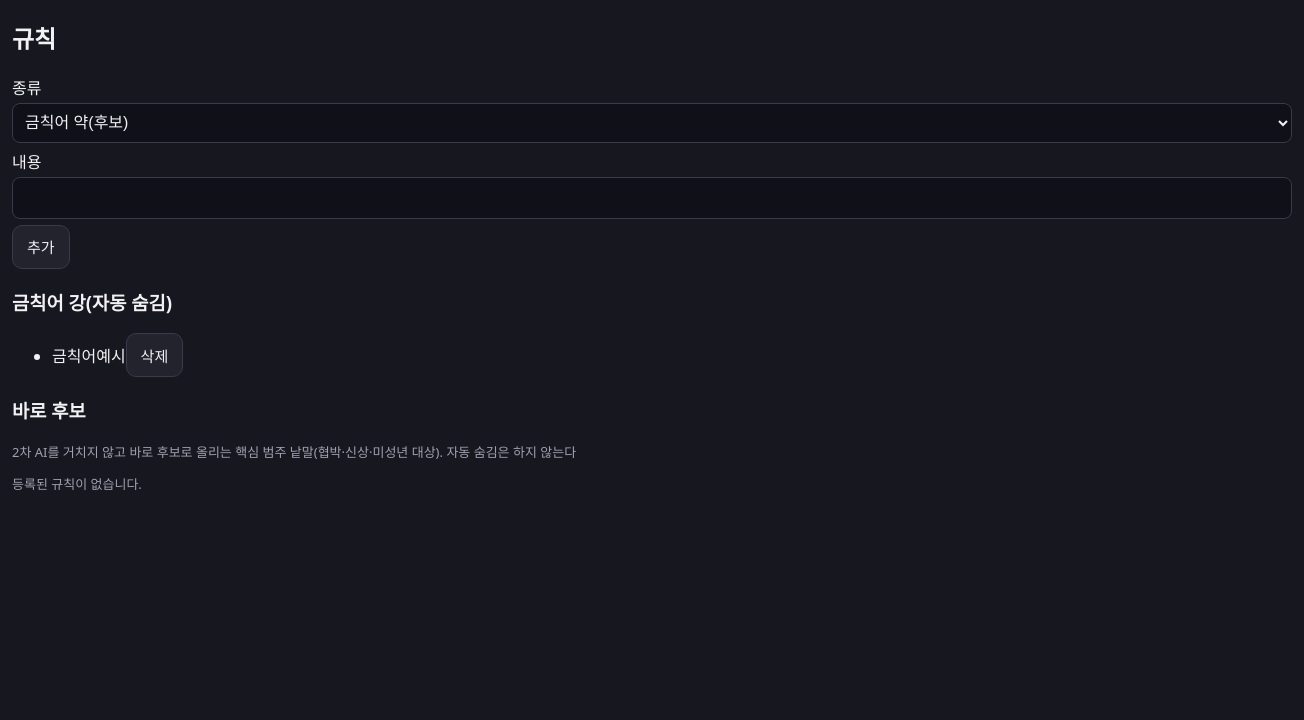
Test: RulesSection › 종류별로 보여 주고, 추가하면 다시 불러온다
Expected: the text "금칙어예시" is shown, [52,345,126,367]
Expected: the heading "금칙어 강(자동 숨김)" is shown, [12,290,172,314]
Select "금칙어 약(후보)" in the dropdown labelled "종류" at (652, 123), box [12,103,1292,143]
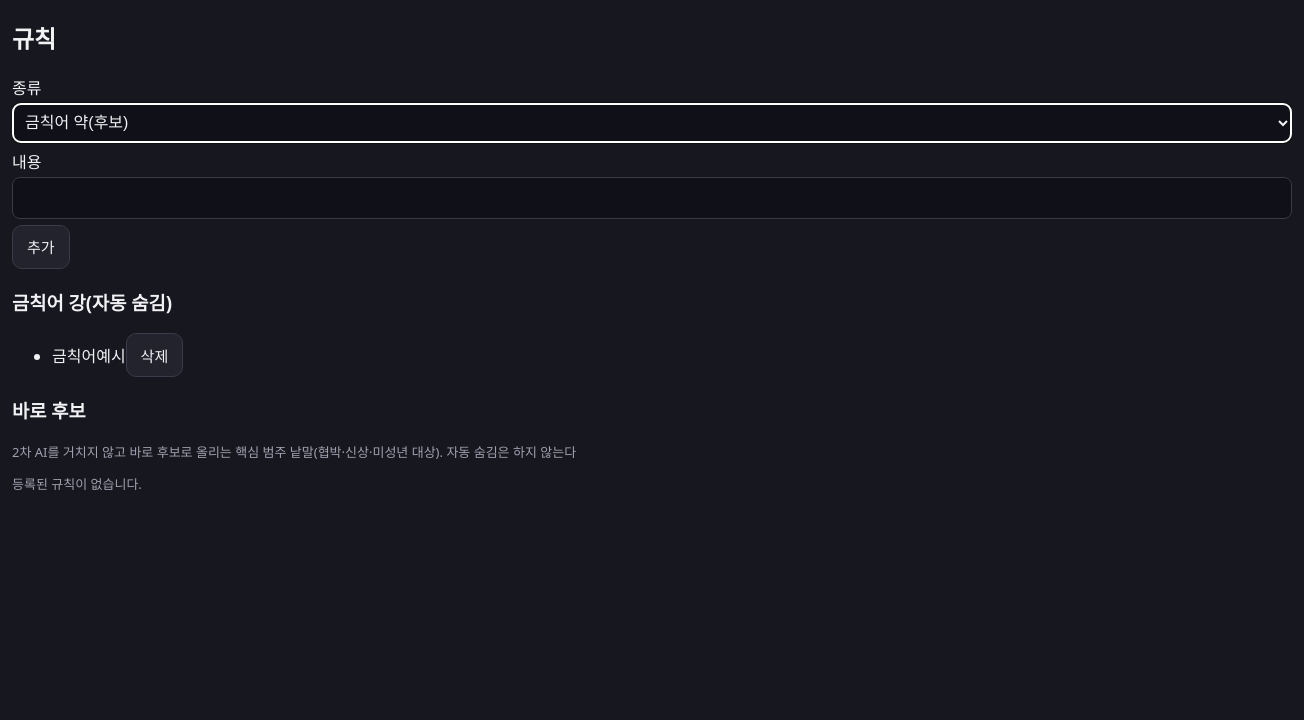
Type "약한예시" into the field labelled "내용" at (652, 198), box [12,177,1292,219]
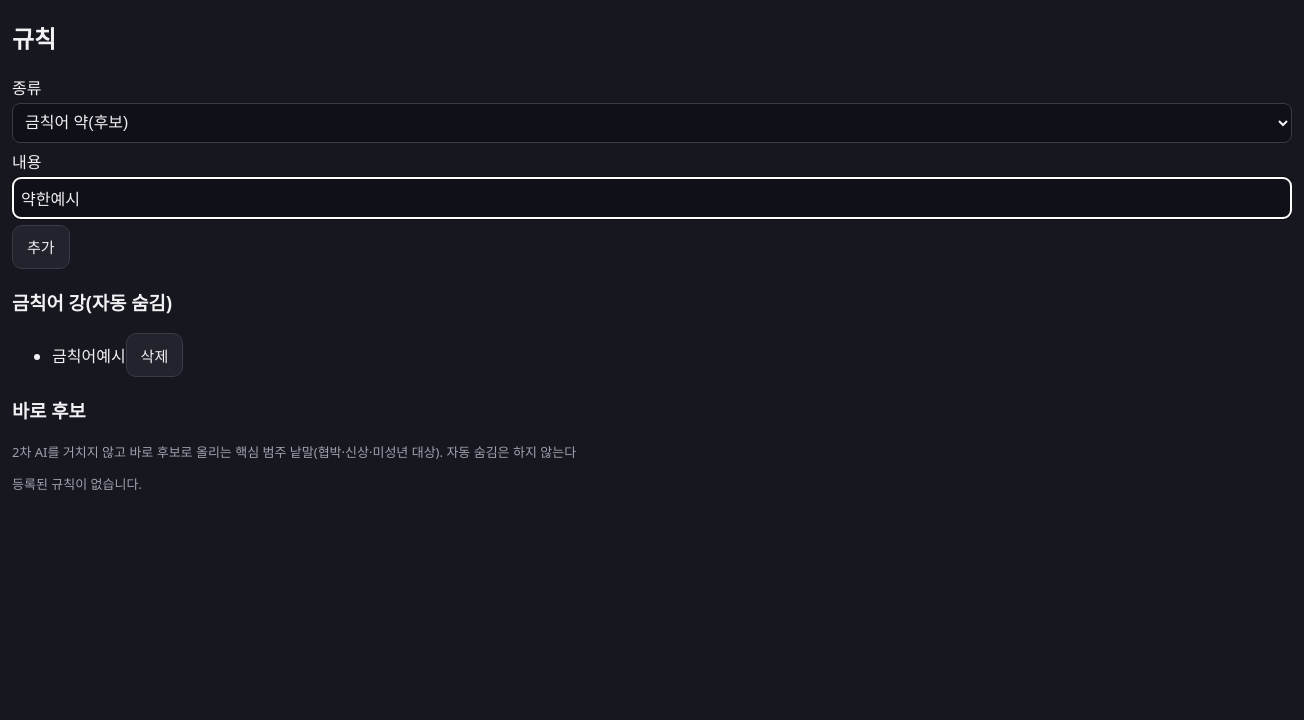
Click the button "추가" at (41, 247), box [12,225,70,269]
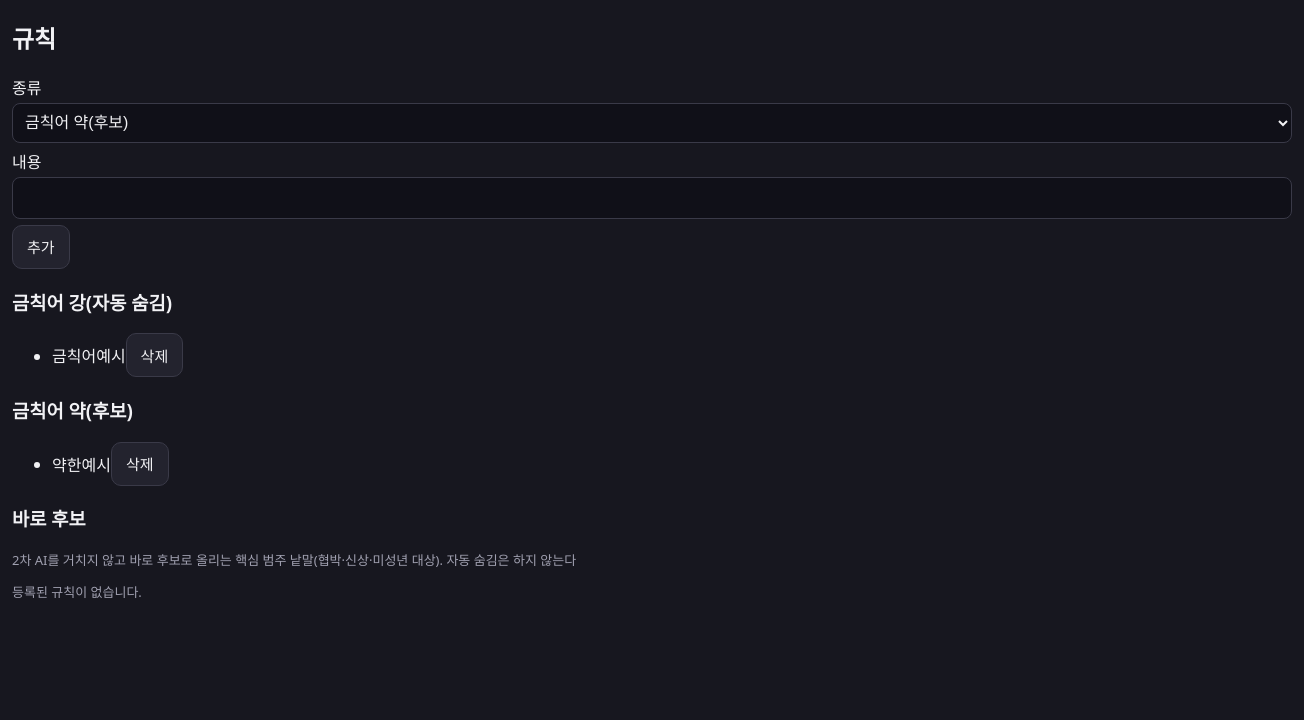
Result: the text "약한예시" is shown at [52,453,111,475]
